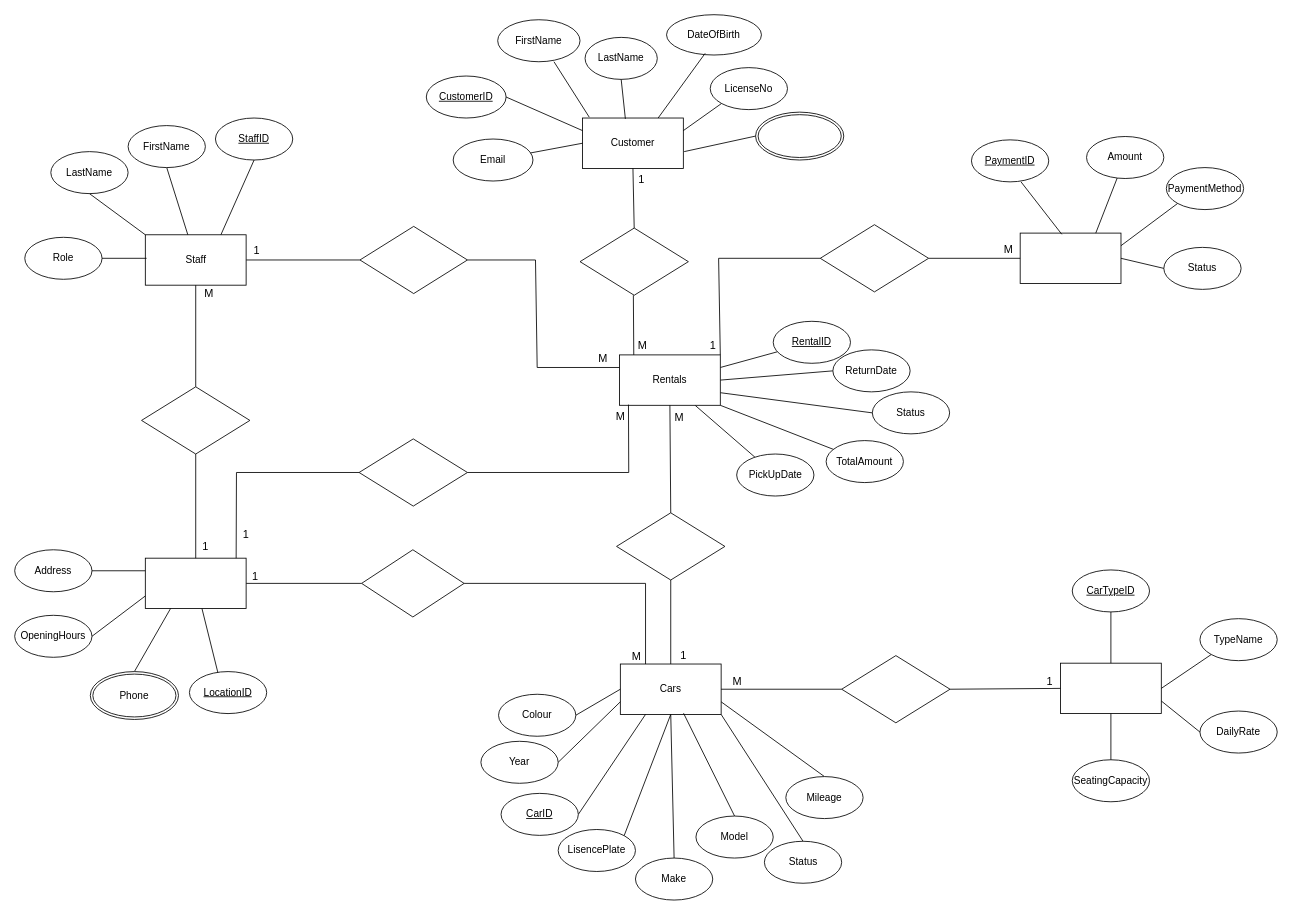
Image size: 1292x915. Some labels were removed from this diagram. Each missing label, with the centre of its shape:
"Booked in" belongs at [670,546].
"Car_Types" belongs at [1110,688].
"Classifies" belongs at [895,689].
"Customer_Phone" belongs at [799,135].
"Employs" belongs at [195,420].
"Has" belongs at [874,258].
"Locations" belongs at [195,583].
"Makes" belongs at [633,261].
"Payments" belongs at [1070,258].
"Pickup at" belongs at [412,472].
"Processes" belongs at [413,260].
"Stored at" belongs at [412,583].
